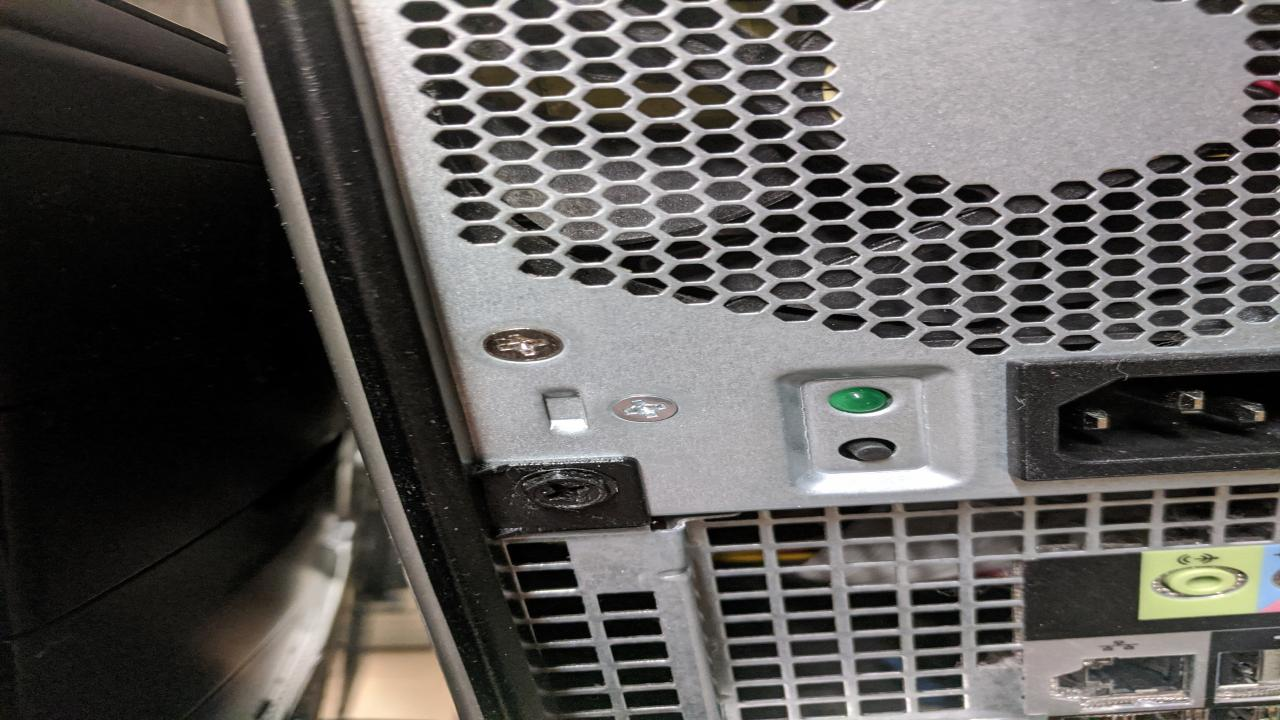CRS: (517, 472, 616, 510), (477, 327, 563, 364), (610, 396, 683, 427)
